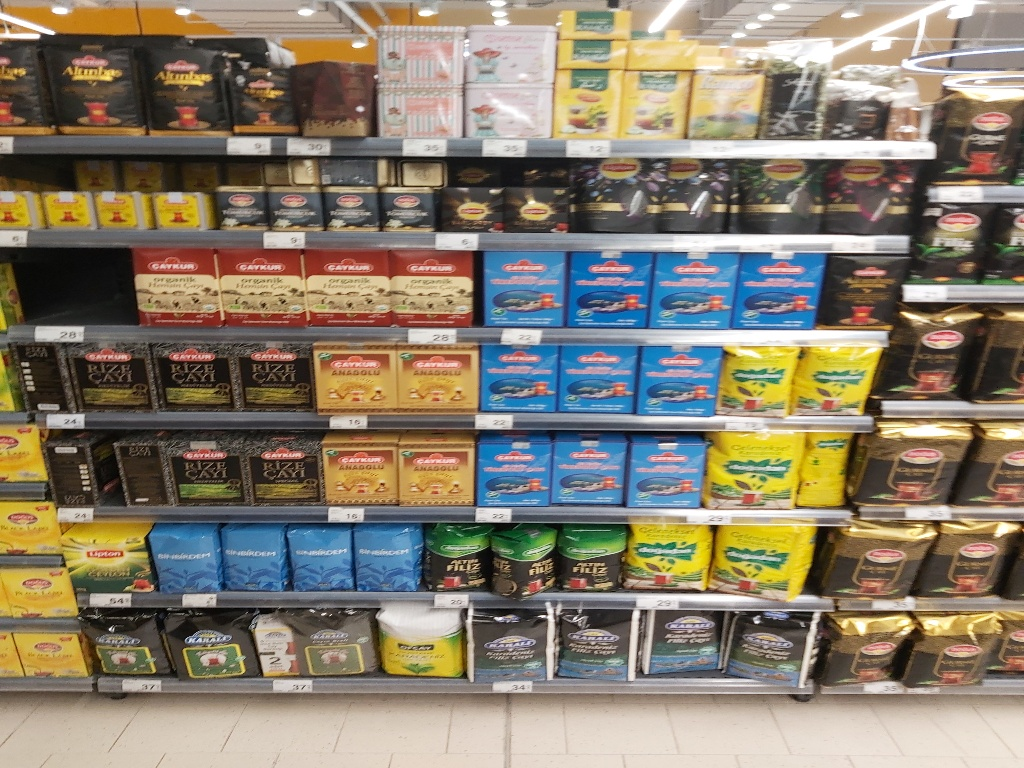urun: (858, 416, 969, 511), (928, 84, 1024, 183), (887, 298, 978, 402), (134, 42, 221, 142), (710, 515, 819, 593), (826, 516, 934, 594), (931, 516, 1020, 605), (810, 157, 914, 232), (160, 595, 252, 678), (131, 247, 223, 329), (216, 244, 308, 326), (302, 246, 394, 328), (916, 193, 992, 292), (707, 424, 801, 504), (375, 600, 467, 681), (461, 595, 553, 676), (547, 600, 639, 681), (726, 604, 818, 685), (632, 598, 724, 678), (910, 617, 1015, 687), (294, 56, 378, 142), (390, 244, 476, 328), (215, 55, 298, 141), (568, 250, 654, 333), (649, 246, 735, 329), (820, 246, 906, 329), (483, 250, 568, 333), (739, 247, 824, 330), (818, 608, 910, 684), (623, 426, 707, 508), (308, 342, 396, 420), (308, 428, 396, 506), (544, 426, 627, 508), (294, 600, 375, 684), (68, 337, 155, 415), (150, 344, 237, 422), (228, 338, 315, 416), (392, 342, 479, 420), (475, 342, 562, 420), (553, 344, 640, 422), (634, 338, 721, 416), (712, 339, 799, 417), (794, 335, 881, 413), (157, 429, 244, 507), (236, 429, 323, 507), (389, 428, 476, 506), (466, 429, 553, 507), (626, 515, 713, 593), (575, 160, 662, 236), (60, 524, 151, 596), (737, 152, 815, 234), (143, 516, 220, 598), (212, 517, 289, 599), (279, 517, 356, 599), (682, 72, 765, 147), (375, 15, 465, 79), (372, 82, 462, 146), (467, 24, 557, 88), (84, 608, 166, 678), (463, 79, 556, 140), (548, 61, 621, 138), (617, 68, 690, 145), (13, 618, 82, 694), (484, 522, 557, 593), (347, 520, 420, 590), (415, 521, 488, 591), (557, 520, 630, 590), (662, 160, 731, 233), (253, 599, 298, 690), (211, 154, 265, 224), (265, 159, 319, 229), (321, 159, 375, 229), (380, 164, 434, 234), (154, 152, 207, 223), (95, 155, 148, 225), (45, 154, 92, 225), (1, 152, 41, 228), (440, 184, 502, 230), (509, 186, 571, 232)
urun2: (38, 22, 142, 138)
